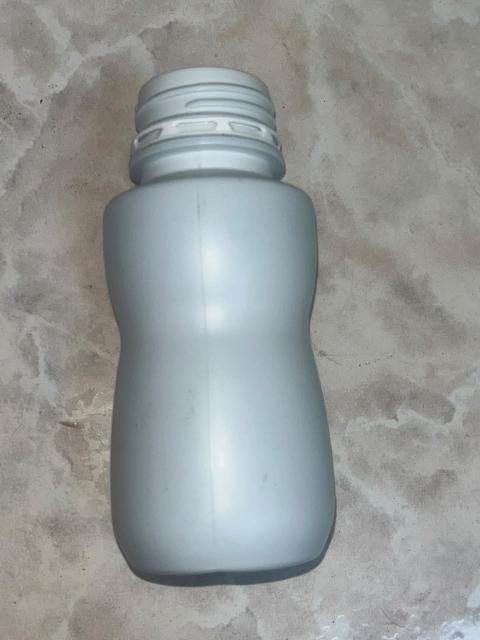HDPE: (92, 78, 364, 562)
